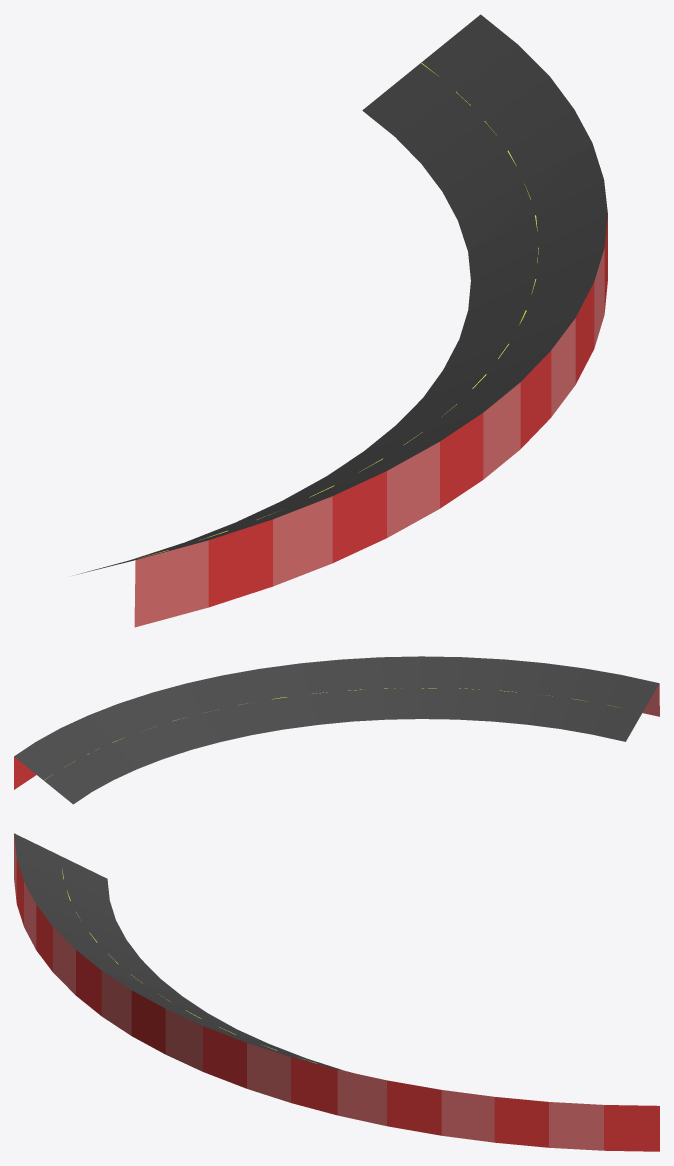
The model's file is btur.obj.
The picture shows the model from 3 angles, top to bottom: view 1: azimuth 30°, elevation 25°; view 2: azimuth 150°, elevation 25°; view 3: azimuth 270°, elevation 25°; orthographic projection. The views are drawn at different scales.
Size of the model in its own units: 1658 by 130 by 1658.
